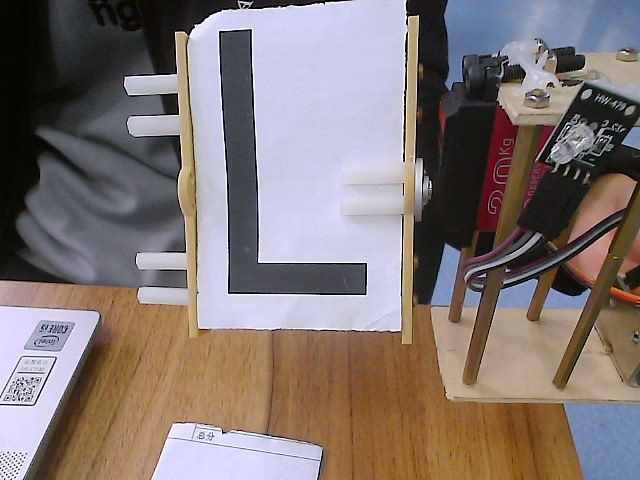L: (110, 1, 455, 361)
